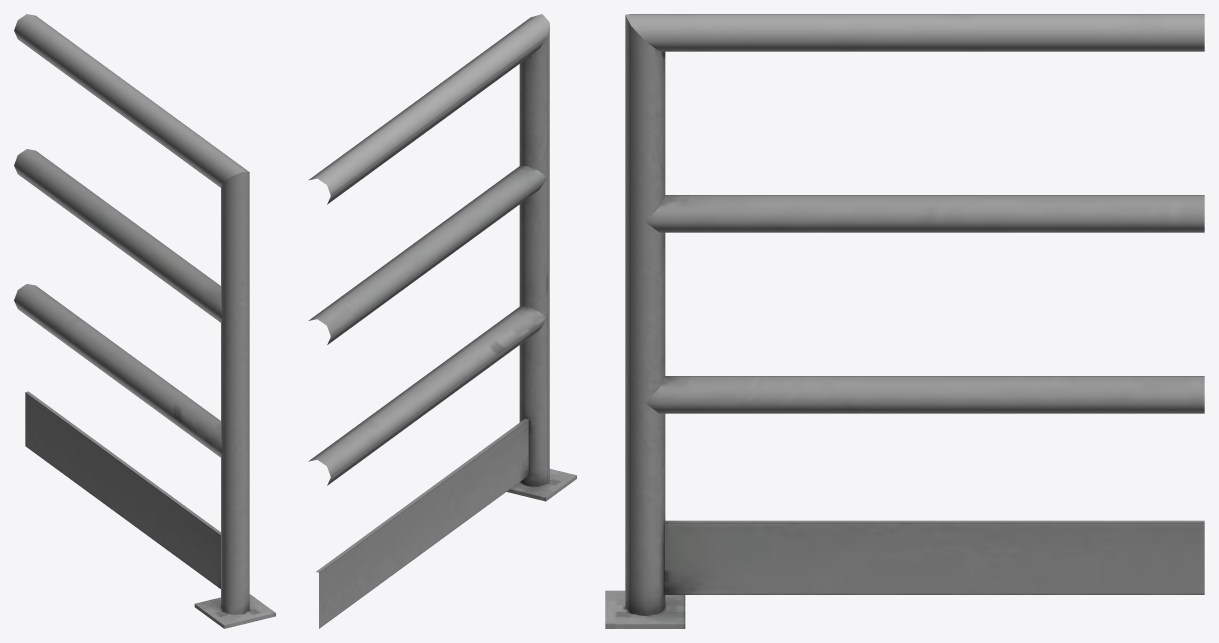
3 renders of one model, left to right at view 1: azimuth 30°, elevation 25°; view 2: azimuth 150°, elevation 25°; view 3: azimuth 270°, elevation 25°, orthographic. The views are drawn at different scales.
Parts seen in each view (by area): view 1: body0_model0_lod0_mesh0; view 2: body0_model0_lod0_mesh0; view 3: body0_model0_lod0_mesh0.
Boxes of the visible parts, <box> form: body0_model0_lod0_mesh0: <box>14,14,275,628</box>; body0_model0_lod0_mesh0: <box>308,14,576,628</box>; body0_model0_lod0_mesh0: <box>605,14,1204,628</box>.
Size of the model in its own units: 4 by 33 by 30.
1 material, 1 textured.
